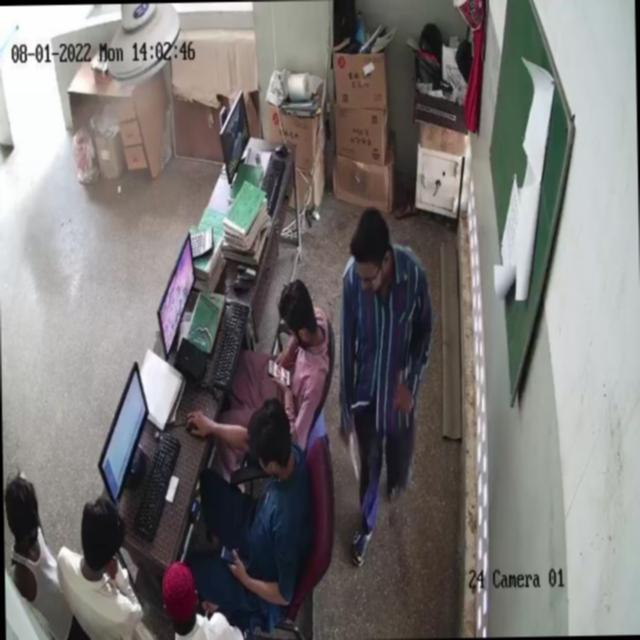person: (339, 217, 425, 528), (185, 402, 291, 596), (58, 511, 140, 640), (3, 475, 71, 609), (242, 289, 330, 392), (159, 574, 227, 640)
